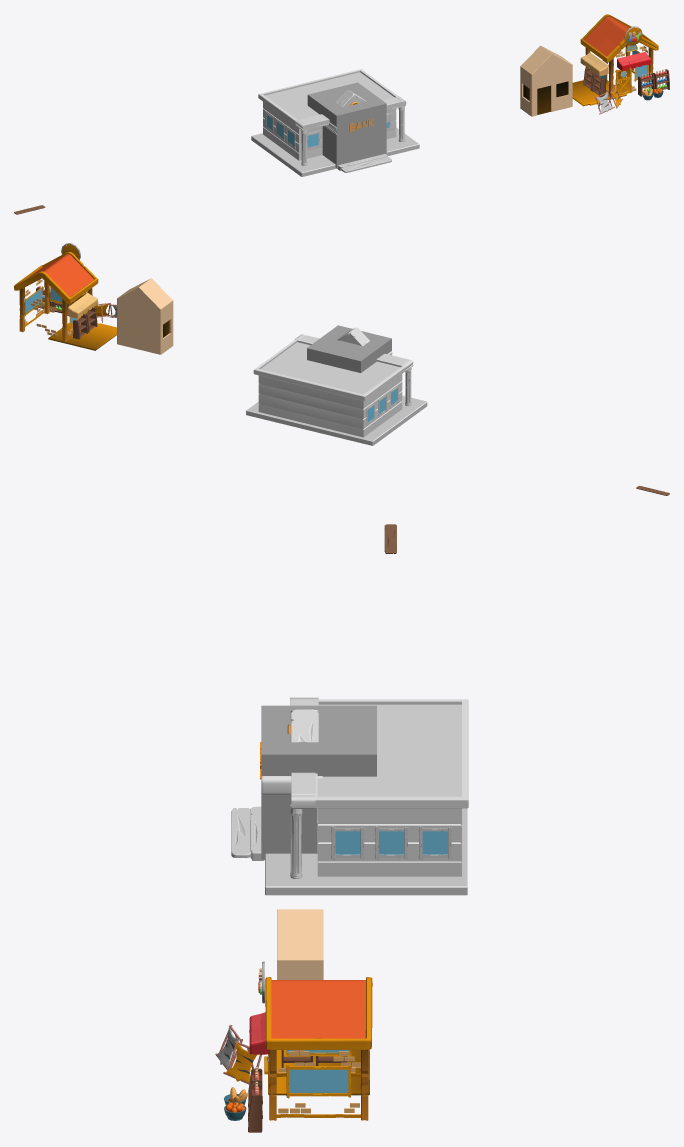
The model's file is Bank.fbx.
3 views of the same model, one above another, from view 1: azimuth 30°, elevation 25°; view 2: azimuth 150°, elevation 25°; view 3: azimuth 270°, elevation 25° (orthographic). The views are drawn at different scales.
Visible parts, largest first — view 1: Bank, pCube1, polySurface38, polySurface111, polySurface26, polySurface126, polySurface112; view 2: Bank, polySurface38, pCube1, polySurface111, polySurface26, polySurface112; view 3: Bank, pCube1, polySurface111, polySurface38, polySurface56, polySurface26.
Boxes of the visible parts, x1,y1,x2,y2 form: Bank: [251, 69, 419, 176]; pCube1: [307, 82, 386, 168]; polySurface38: [520, 45, 572, 116]; polySurface111: [580, 14, 658, 62]; polySurface26: [572, 80, 626, 106]; polySurface126: [617, 52, 651, 70]; polySurface112: [580, 52, 608, 76]; Bank: [246, 327, 427, 445]; polySurface38: [117, 278, 173, 354]; pCube1: [307, 325, 391, 372]; polySurface111: [14, 252, 98, 303]; polySurface26: [48, 322, 116, 350]; polySurface112: [68, 293, 98, 318]; Bank: [231, 697, 468, 895]; pCube1: [261, 705, 376, 859]; polySurface111: [265, 977, 372, 1049]; polySurface38: [277, 909, 323, 979]; polySurface56: [289, 1069, 348, 1093]; polySurface26: [264, 1050, 369, 1095].
Bounding box in the file's own units: 393 × 42.44 × 69.52.
Materials: 2 (1 with a texture image).
